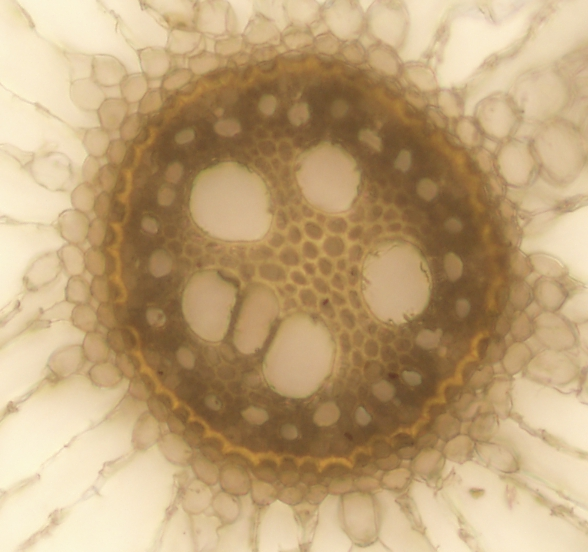lm: (179, 268, 280, 355), (358, 234, 433, 326), (187, 160, 273, 240), (260, 310, 335, 398), (295, 140, 363, 214)
